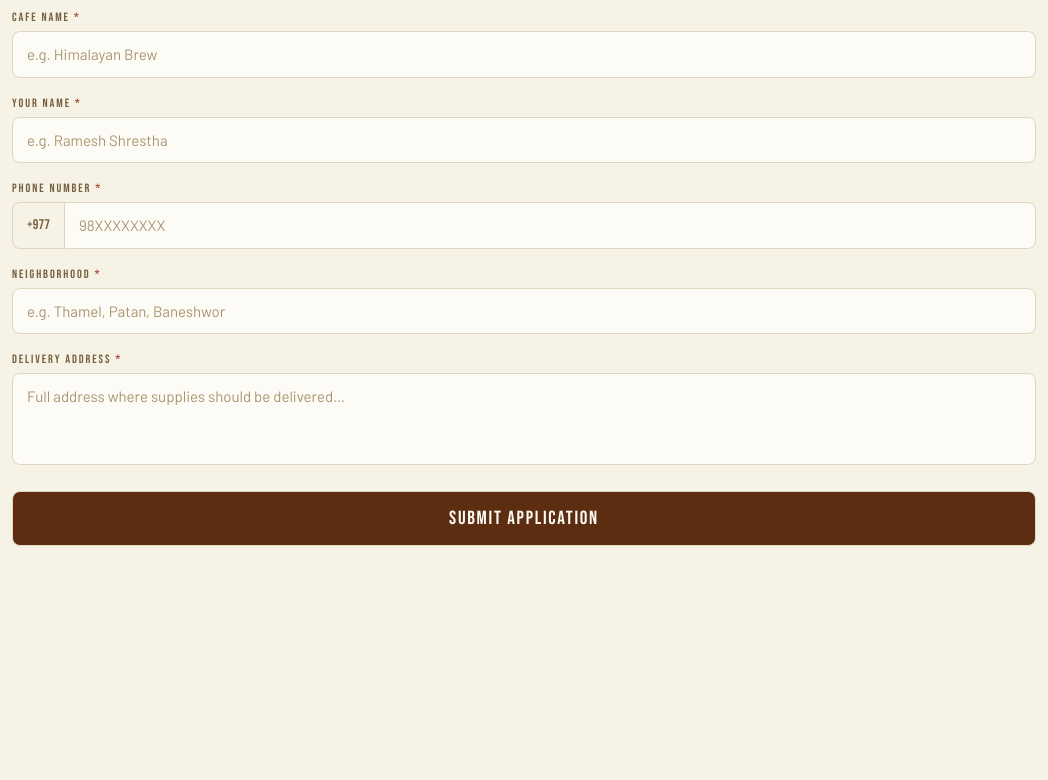
Test case: OnboardingForm › disables the button while submission is in flight
Type "Himalayan Brew" into the field labelled "Café Name *" at (524, 54), box [12,31,1036,78]
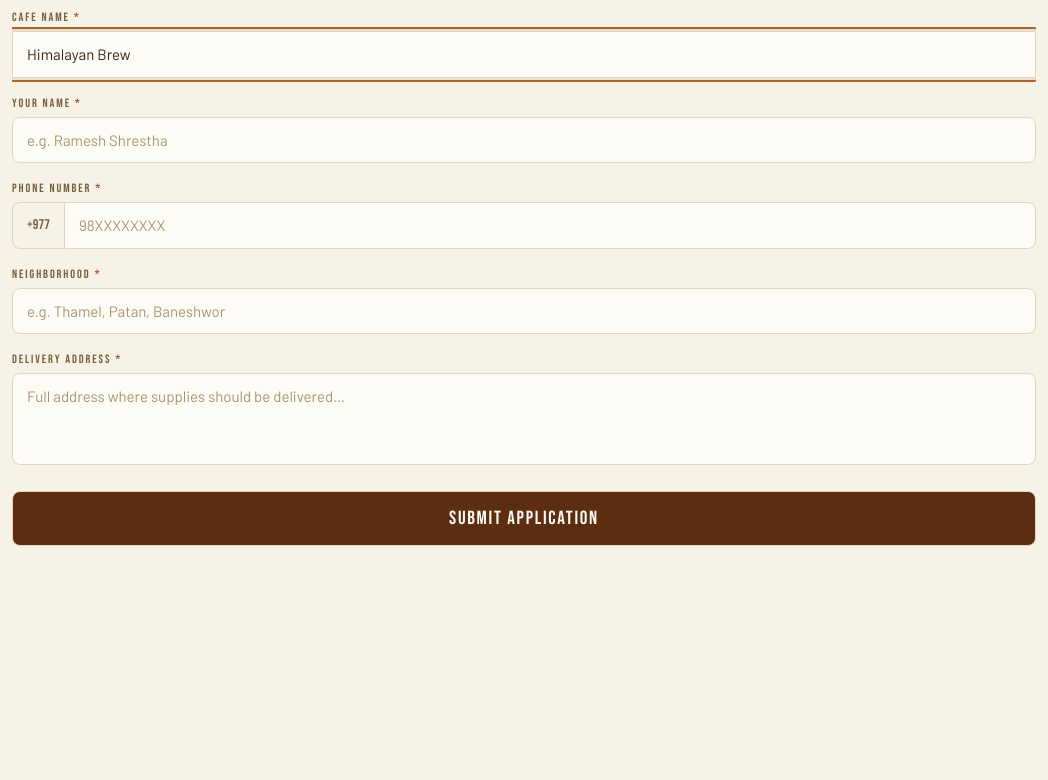
Type "Ramesh Shrestha" into the field labelled "Your Name *" at (524, 140), box [12,116,1036,163]
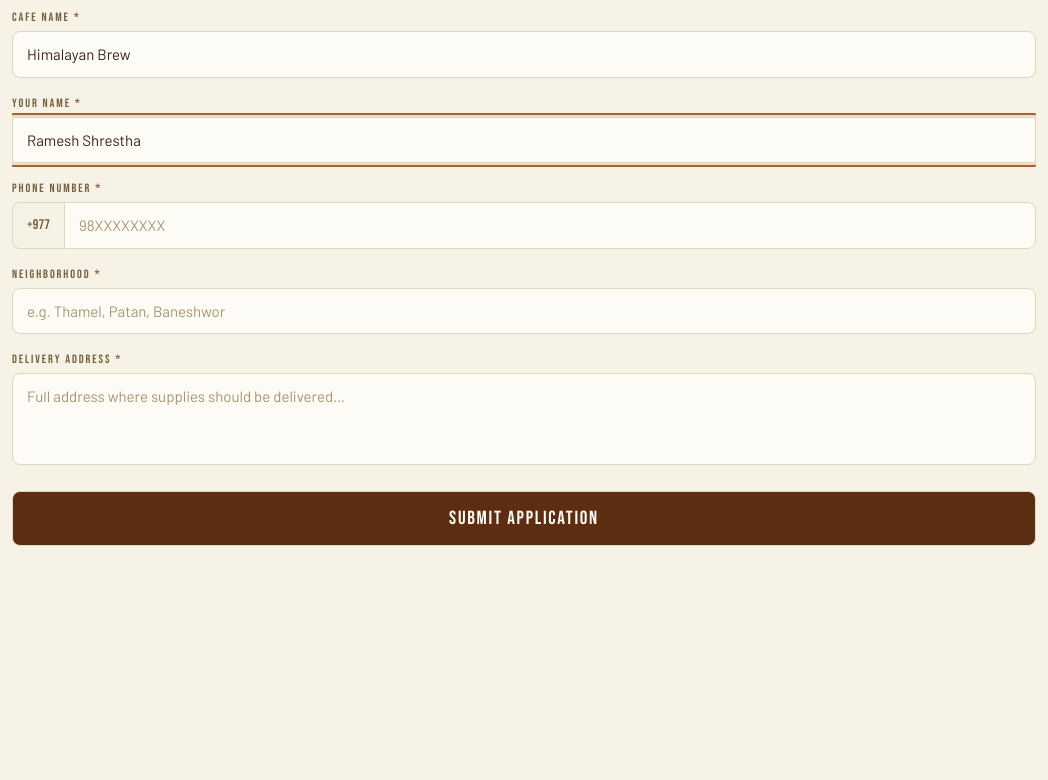
Type "9841234567" into the field labelled "Phone Number *" at (550, 225), box [64,202,1036,248]
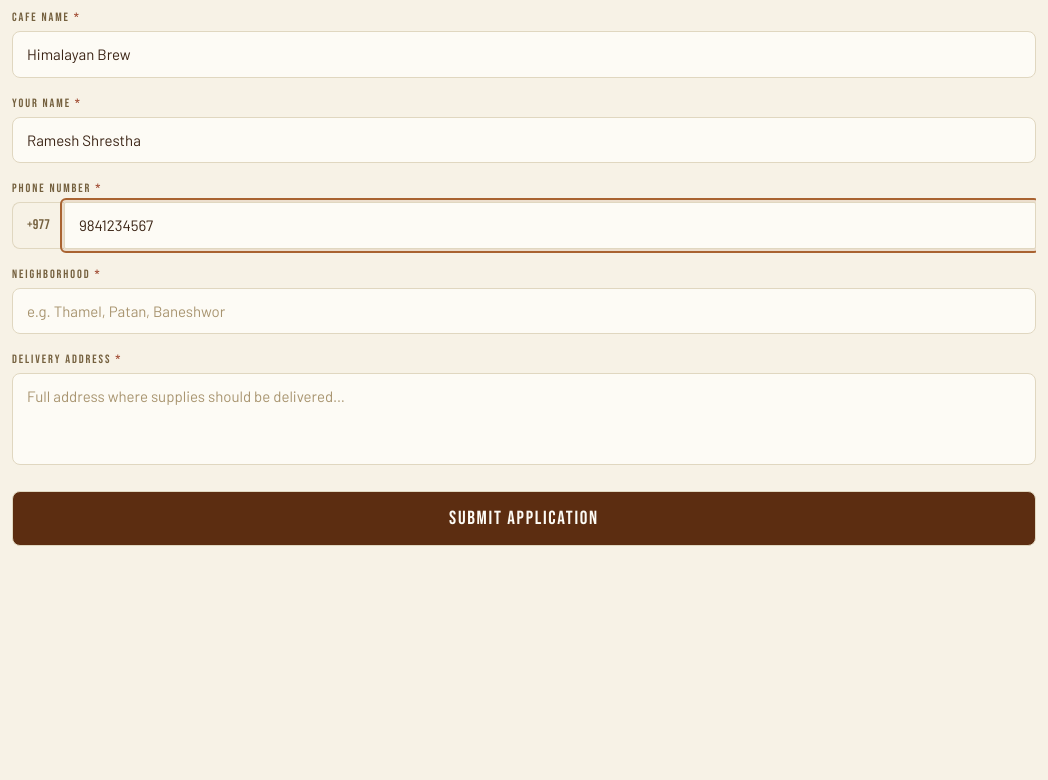
Type "Thamel" into the field labelled "Neighborhood *" at (524, 311), box [12,288,1036,334]
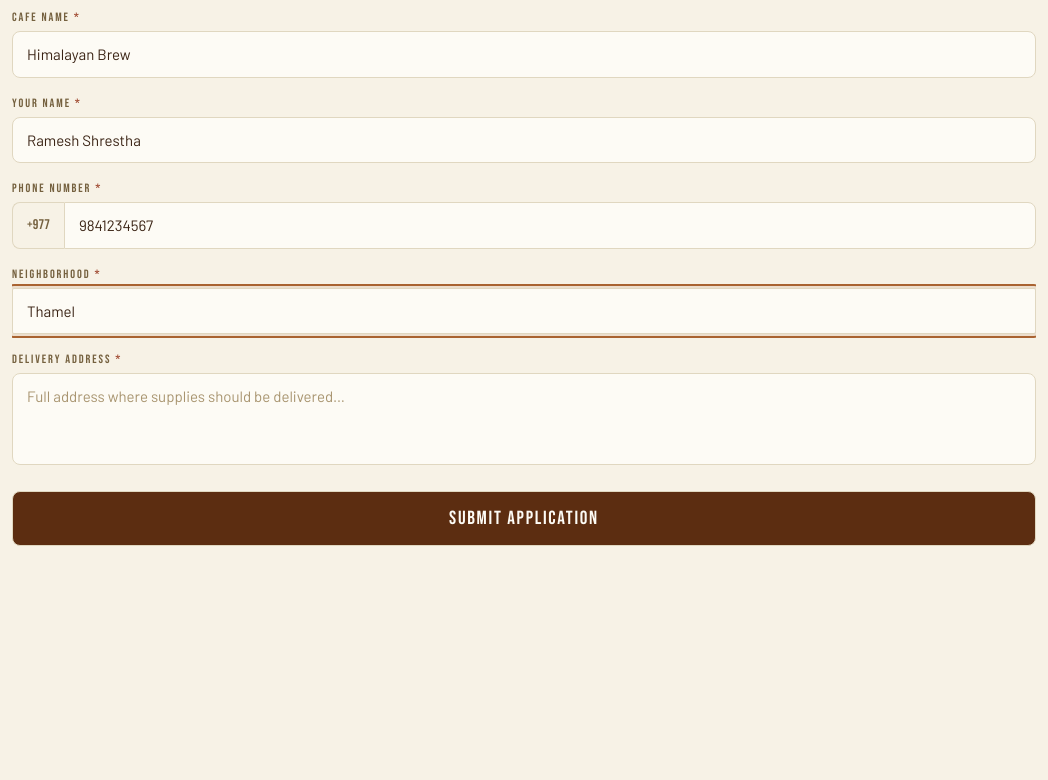
Type "Ward 26, Thamel, Kathmandu" into the text box labelled "Delivery Address *" at (524, 419), box [12,373,1036,464]
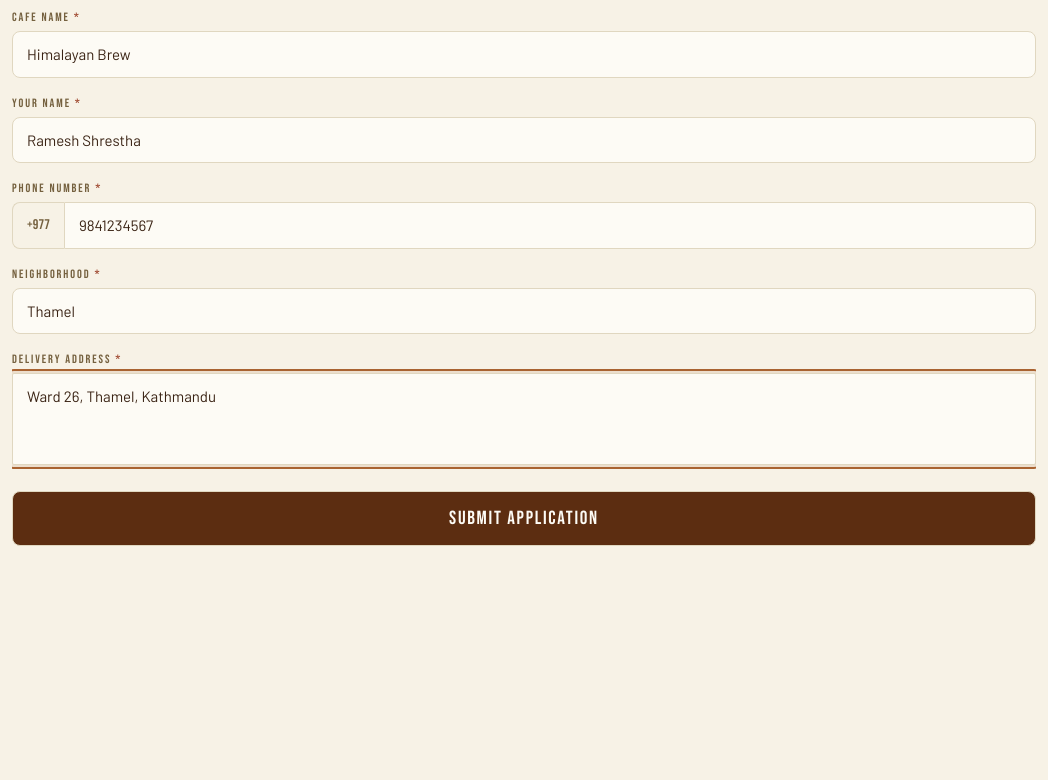
Click the button "Submit Application" at (524, 518), box [12,490,1036,546]
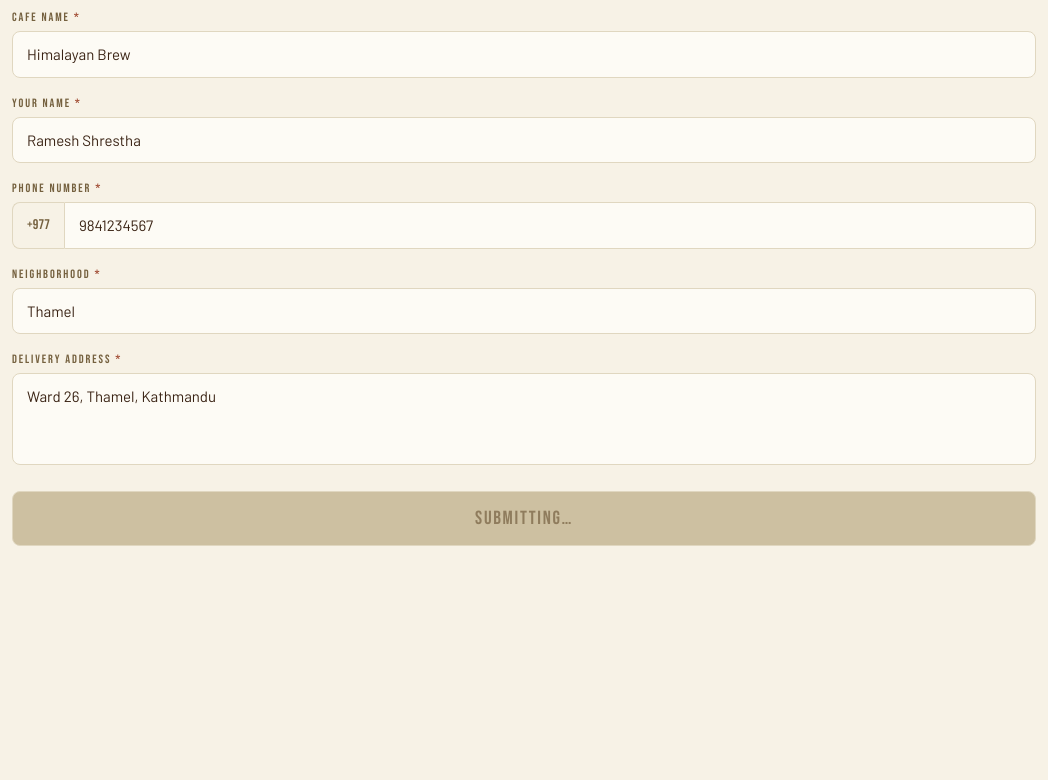
Expected: the button "Submitting…" is disabled, [12,490,1036,546]
